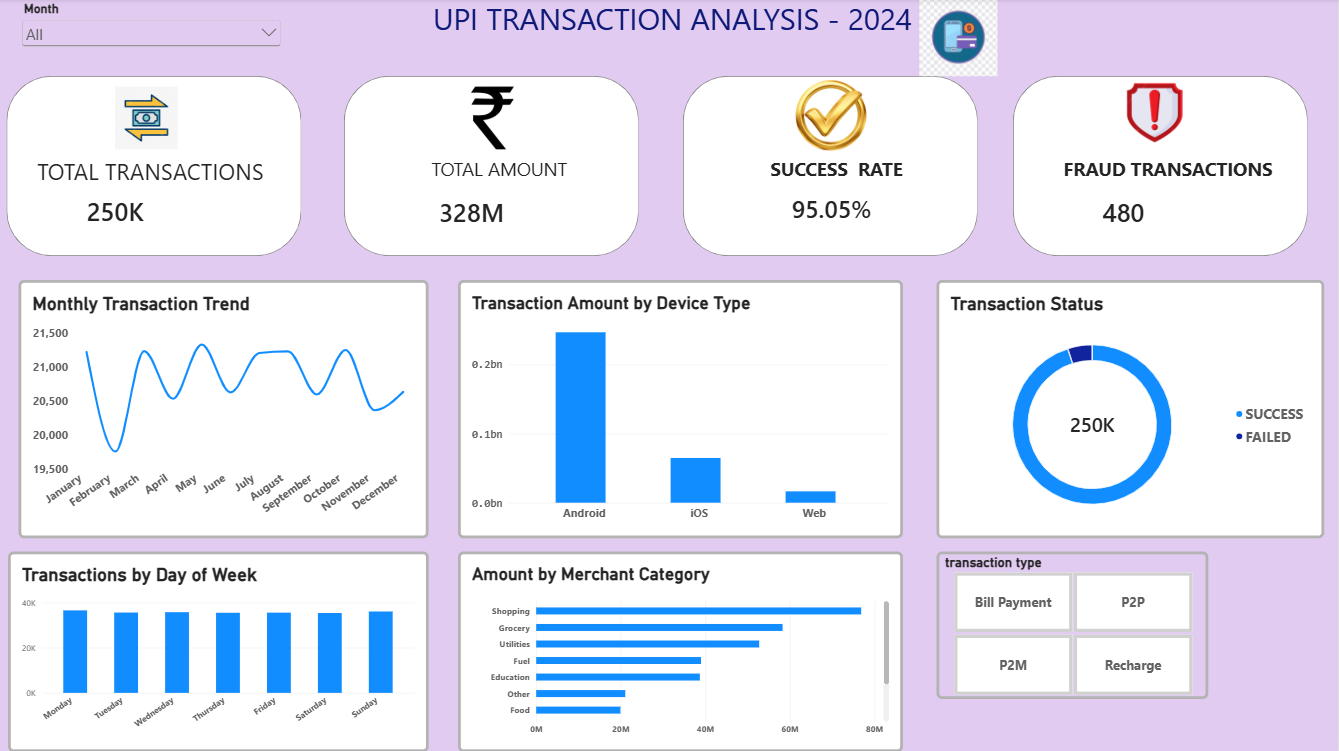

This screenshot's page, from the dashboard's own definition file:
{"tool":"powerbi","page":{"name":"DASHBOARD Of UPI Transaction","canvas":[1920,1080],"ordinal":0},"visuals":[{"type":"textbox","box":[11.3,0,1907.7,113.4],"z":0},{"type":"shape","box":[11.7,112.6,422.3,257.7],"z":1000},{"type":"shape","box":[495.1,112.6,422.3,257.7],"z":2000},{"type":"shape","box":[980,112.5,422.3,257.7],"z":3000},{"type":"shape","box":[1452.5,112.5,422.3,257.7],"z":4000},{"type":"textbox","box":[12,438,422,258],"z":5000},{"type":"textbox","box":[12,707,422,258],"z":6000},{"type":"textbox","box":[0,225.2,434.1,70.4],"z":7000},{"type":"textbox","box":[495,225,445,610],"z":8000},{"type":"textbox","box":[987.5,225,422.5,610],"z":9000},{"type":"textbox","box":[1462.5,225,422.5,610],"z":10000},{"type":"image","box":[145.5,126.7,130,90],"z":11000},{"type":"image","box":[637.5,127.5,137.5,90],"z":12000},{"type":"image","box":[1090,112.5,205,112.5],"z":13000},{"type":"image","box":[1565,112.5,182.5,105],"z":14000},{"type":"cardVisual","fields":{"Data":["upi_transactions_2024.Total Transactions"]},"box":[110.3,260.4,197.1,91.5],"z":15000},{"type":"cardVisual","fields":{"Data":["upi_transactions_2024.Total Amount"]},"box":[615,260,180,92.5],"z":16000},{"type":"cardVisual","fields":{"Data":["upi_transactions_2024.Success Rate"]},"box":[1120,195,445,210],"z":17000},{"type":"cardVisual","fields":{"Data":["upi_transactions_2024.Fraud Transactions"]},"box":[1565,260,182.5,92.5],"z":18000},{"type":"lineChart","title":"Monthly Transaction Trend","fields":{"Category":["upi_transactions_2024.timestamp.Variation.Date Hierarchy.Month"],"Y":["CountNonNull(upi_transactions_2024.timestamp)"]},"box":[27.5,405,587.5,370],"z":19000},{"type":"clusteredColumnChart","title":"Transaction Amount by Device Type","fields":{"Category":["upi_transactions_2024.device_type"],"Y":["Sum(upi_transactions_2024.amount (INR))"]},"box":[657.5,405,637.5,370],"z":20000},{"type":"donutChart","title":"Transaction Status","fields":{"Category":["upi_transactions_2024.transaction_status"],"Y":["CountNonNull(upi_transactions_2024.timestamp)"]},"box":[1342.5,405,555,370],"z":21000},{"type":"clusteredColumnChart","title":"Transactions by Day of Week","fields":{"Category":["upi_transactions_2024.day_of_week"],"Y":["upi_transactions_2024.Total Transactions"]},"box":[12.5,792.5,602.5,287.5],"z":22000},{"type":"clusteredBarChart","title":"Amount by Merchant Category","fields":{"Category":["upi_transactions_2024.merchant_category"],"Y":["Sum(upi_transactions_2024.amount (INR))"]},"box":[657.5,792.5,637.5,287.5],"z":23000},{"type":"slicer","fields":{"Values":["upi_transactions_2024.timestamp.Variation.Date Hierarchy.Month"]},"box":[28.2,4.7,380.1,77.4],"z":24000},{"type":"slicer","fields":{"Values":["upi_transactions_2024.transaction type"]},"box":[1342,793,389.5,211.2],"z":25000},{"type":"image","box":[1295.6,0,157.5,112.1],"z":25001}]}

Visuals, with their boxes in screenshot pixels (x1, y1, x2, y2), scaled from the page's 1920x1080 canvas onto the 1339x751 screenshot:
textbox: [left=8, top=0, right=1338, bottom=79]
shape: [left=8, top=78, right=303, bottom=257]
shape: [left=345, top=78, right=640, bottom=257]
shape: [left=683, top=78, right=978, bottom=257]
shape: [left=1013, top=78, right=1307, bottom=257]
textbox: [left=8, top=305, right=303, bottom=484]
textbox: [left=8, top=492, right=303, bottom=671]
textbox: [left=0, top=157, right=303, bottom=206]
textbox: [left=345, top=156, right=656, bottom=581]
textbox: [left=689, top=156, right=983, bottom=581]
textbox: [left=1020, top=156, right=1315, bottom=581]
image: [left=101, top=88, right=192, bottom=151]
image: [left=445, top=89, right=540, bottom=151]
image: [left=760, top=78, right=903, bottom=156]
image: [left=1091, top=78, right=1219, bottom=151]
cardVisual - upi_transactions_2024.Total Transactions: [left=77, top=181, right=214, bottom=245]
cardVisual - upi_transactions_2024.Total Amount: [left=429, top=181, right=554, bottom=245]
cardVisual - upi_transactions_2024.Success Rate: [left=781, top=136, right=1091, bottom=282]
cardVisual - upi_transactions_2024.Fraud Transactions: [left=1091, top=181, right=1219, bottom=245]
"Monthly Transaction Trend" lineChart: [left=19, top=282, right=429, bottom=539]
"Transaction Amount by Device Type" clusteredColumnChart: [left=459, top=282, right=903, bottom=539]
"Transaction Status" donutChart: [left=936, top=282, right=1323, bottom=539]
"Transactions by Day of Week" clusteredColumnChart: [left=9, top=551, right=429, bottom=750]
"Amount by Merchant Category" clusteredBarChart: [left=459, top=551, right=903, bottom=750]
slicer - upi_transactions_2024.timestamp.Variation.Date Hierarchy.Month: [left=20, top=3, right=285, bottom=57]
slicer - upi_transactions_2024.transaction type: [left=936, top=551, right=1208, bottom=698]
image: [left=904, top=0, right=1013, bottom=78]
